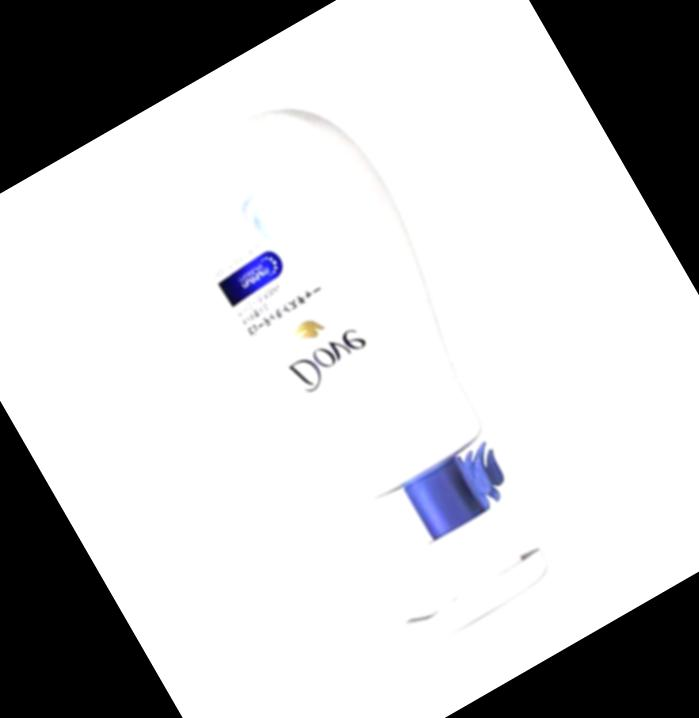cosmetic: (129, 67, 603, 664)
